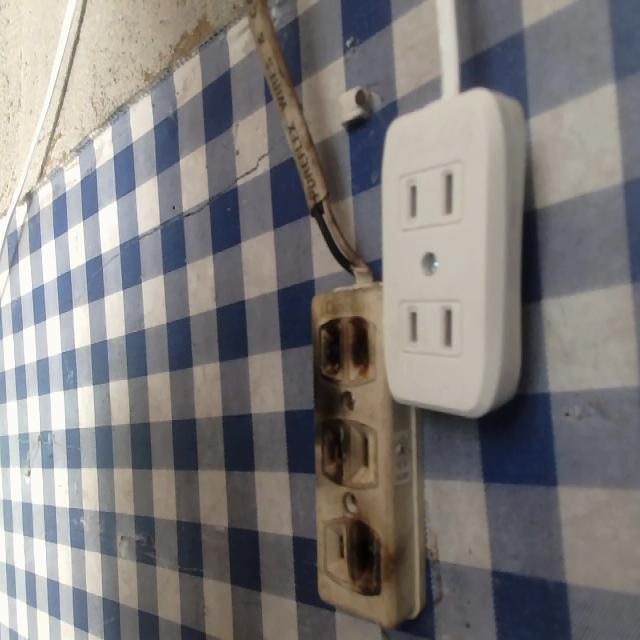-: (309, 311, 385, 388), (347, 507, 392, 601), (313, 416, 353, 489)
